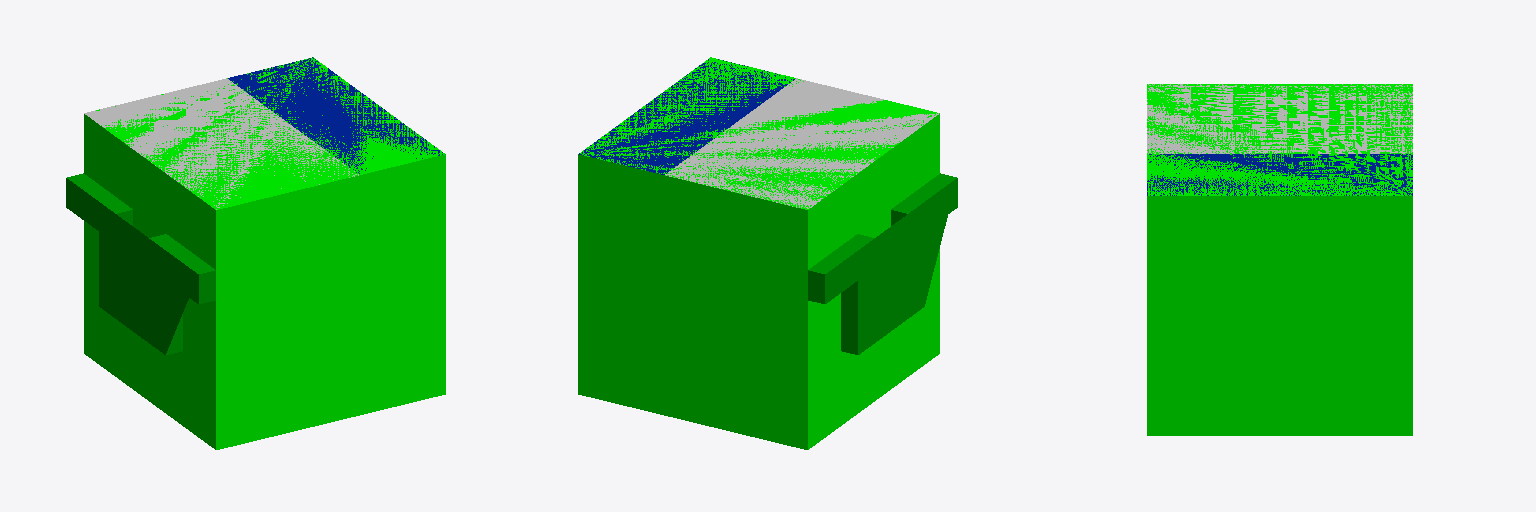
Rendered from Garden.obj.
The picture shows the model from 3 angles: view 1: azimuth 30°, elevation 25°; view 2: azimuth 150°, elevation 25°; view 3: azimuth 270°, elevation 25°; orthographic projection.
Parts seen in each view (by area): view 1: Cube.001; view 2: Cube.001; view 3: Cube.001.
Part boxes in pixels (x1,y1,x2,y2): Cube.001: (66, 57, 445, 449); Cube.001: (578, 57, 957, 449); Cube.001: (1147, 84, 1412, 435).
Size of the model in its own units: 2.15 by 2 by 2.